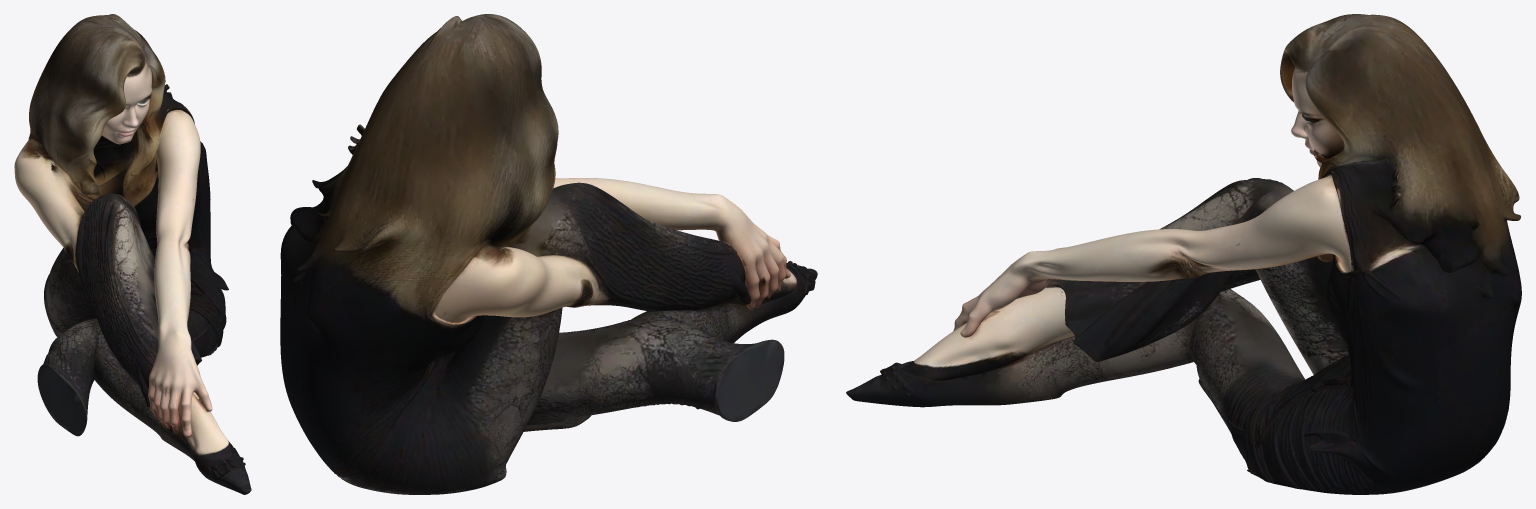
The picture shows the model from 3 angles, left to right: view 1: azimuth 30°, elevation 25°; view 2: azimuth 150°, elevation 25°; view 3: azimuth 270°, elevation 25°; orthographic projection. The views are drawn at different scales.
Parts seen in each view (by area): view 1: node_0; view 2: node_0; view 3: node_0.
Part boxes in pixels (left/top/right/bottom): node_0: left=14, top=14, right=251, bottom=494; node_0: left=280, top=14, right=817, bottom=494; node_0: left=846, top=14, right=1521, bottom=494.
Size of the model in its own units: 0.5294 by 0.666 by 0.9826.
1 material, 1 textured.
